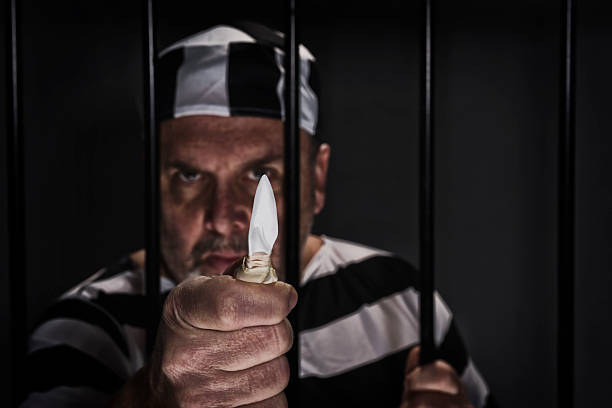knife: (233, 173, 278, 284)
